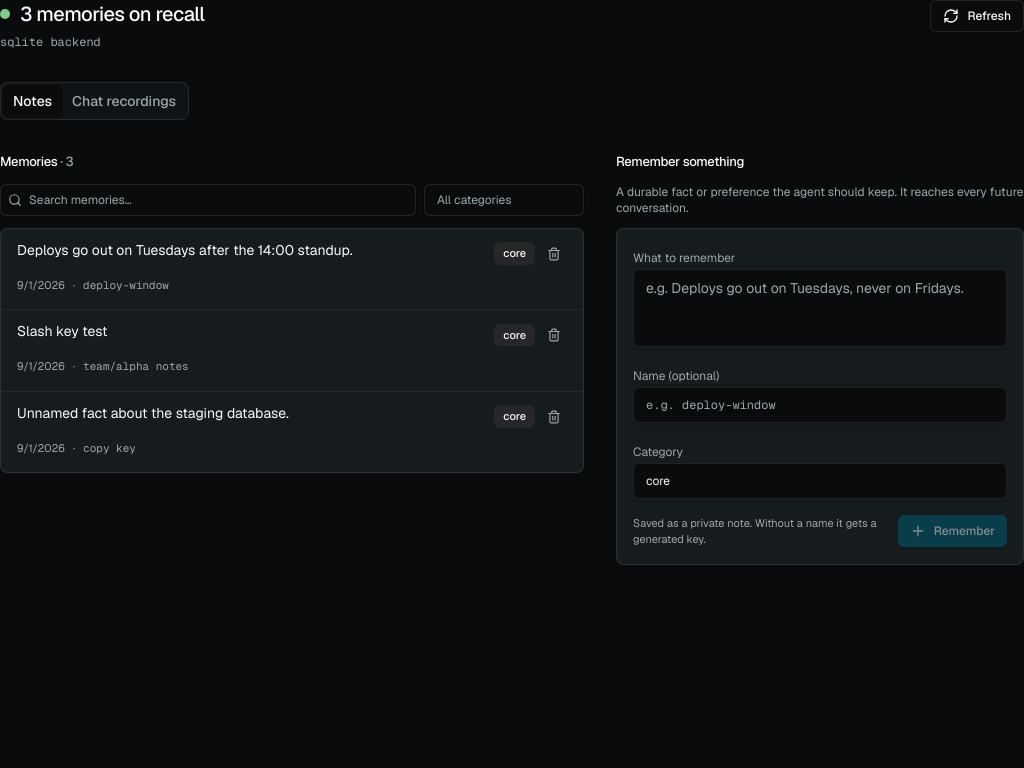
Scenario: MemoryPanel: Forget › says the memory was already gone when the gateway removed nothing
Click the button named "Forget \"Deploys go out" at (554, 254), box [541,240,567,266]
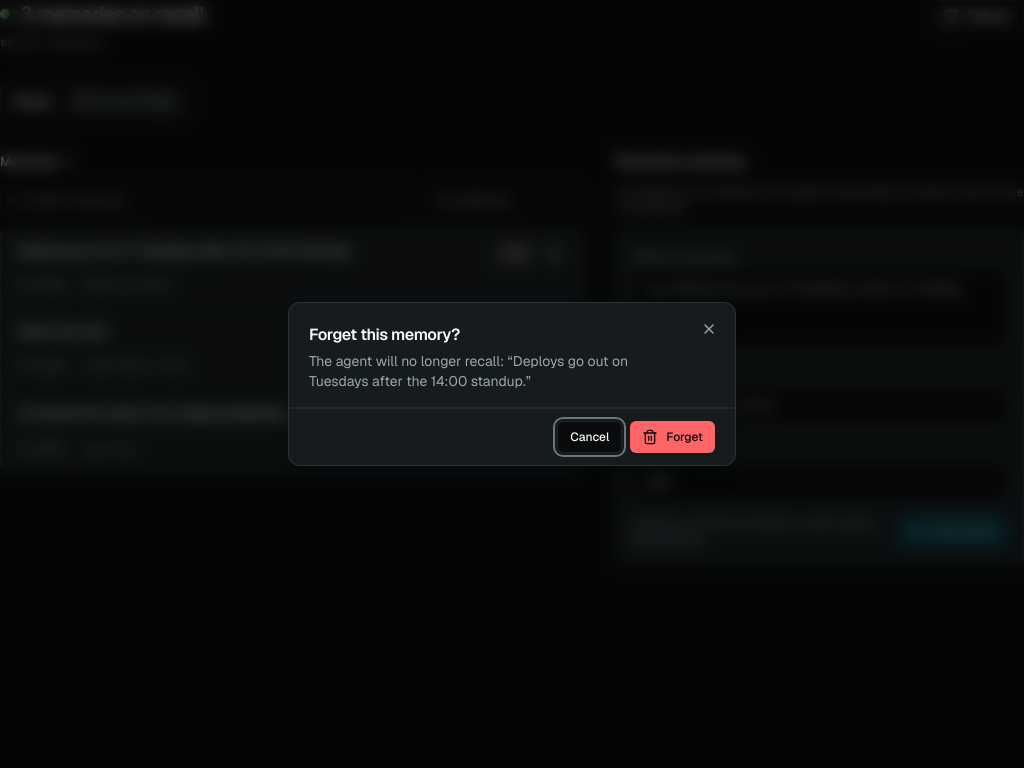
Click the button "Forget" at (673, 437), box [630,421,715,453]
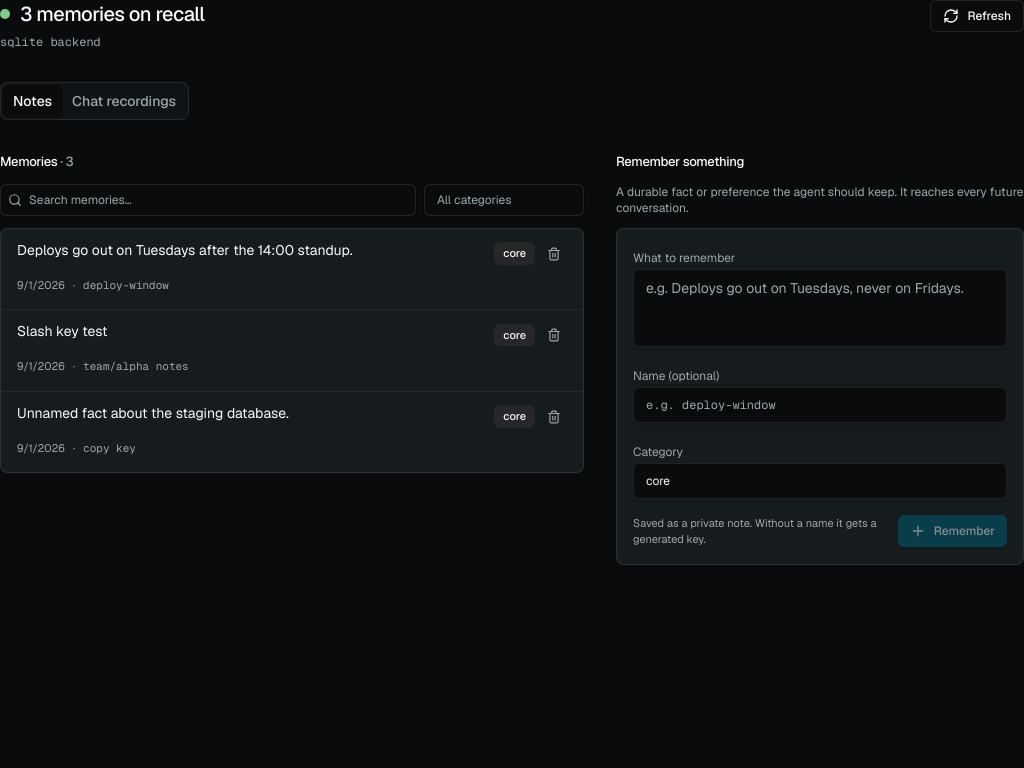
Expected: the dialog is gone
